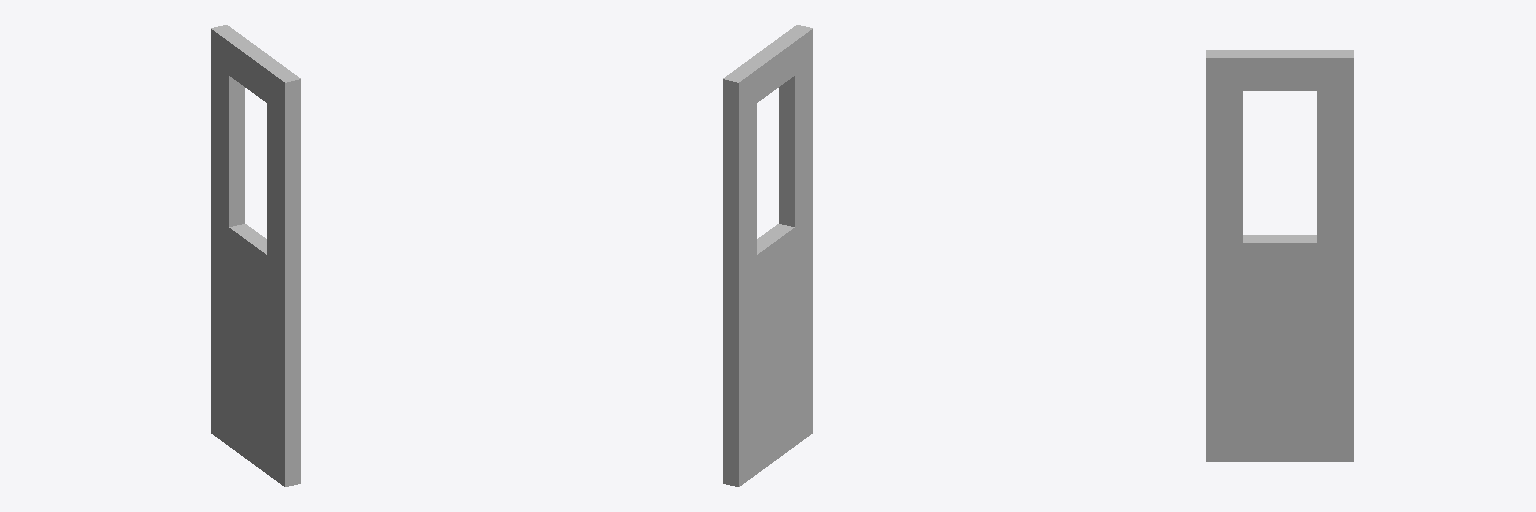
The model's file is Door.obj.
The picture shows the model from 3 angles: view 1: azimuth 30°, elevation 25°; view 2: azimuth 150°, elevation 25°; view 3: azimuth 270°, elevation 25°; orthographic projection.
Size of the model in its own units: 1 by 24 by 8.